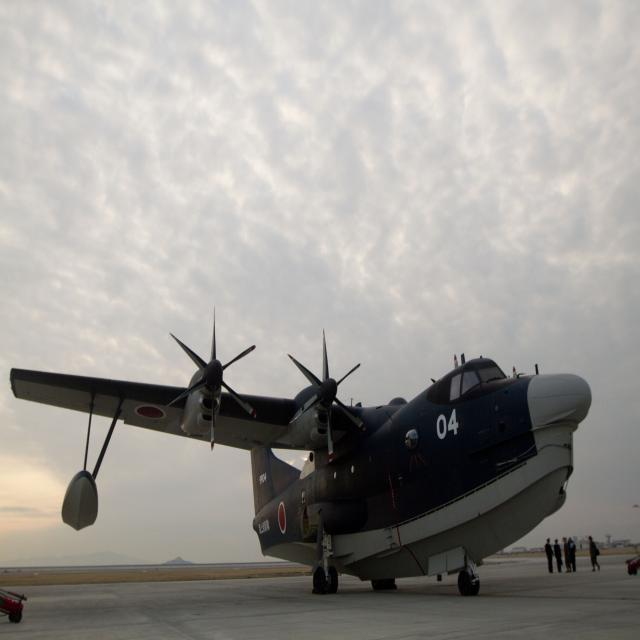MIL_Plane: (8, 305, 592, 596)
